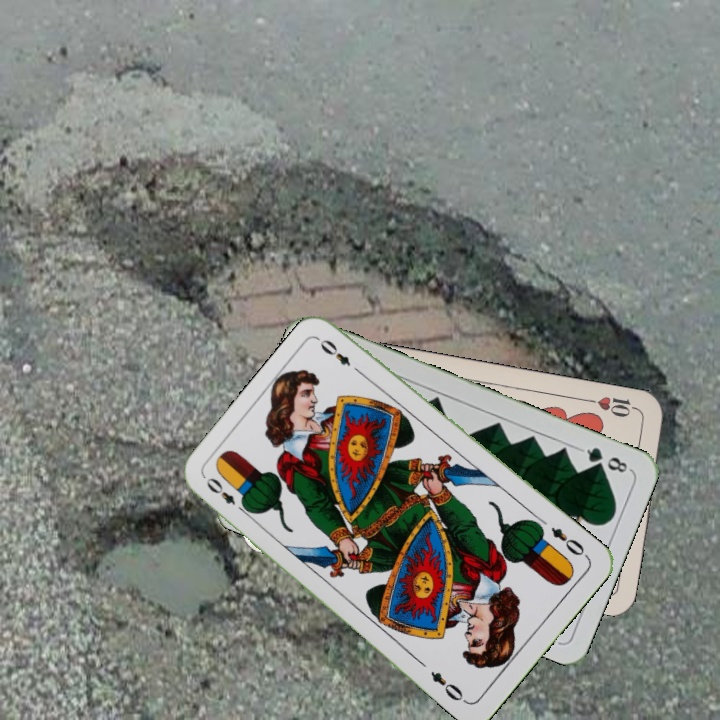EO: (201, 473, 251, 517), (546, 523, 591, 560)
G8: (577, 443, 633, 476)
H10: (584, 392, 643, 420)
